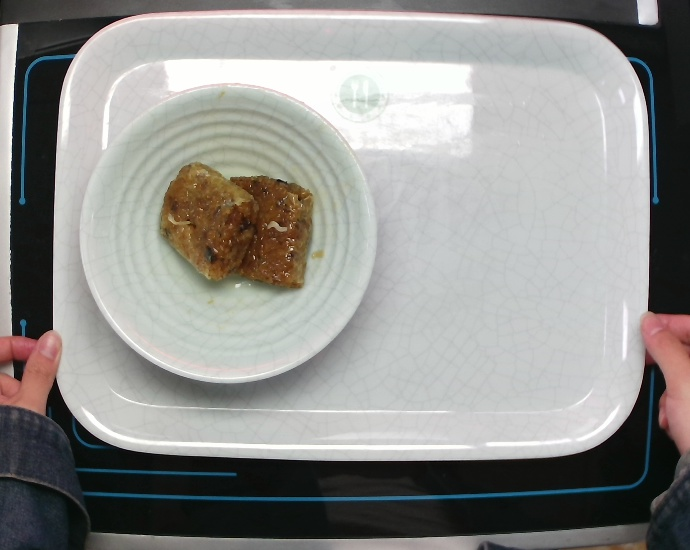JYsf-Xiao_Tang_Wan: (75, 80, 383, 389)
